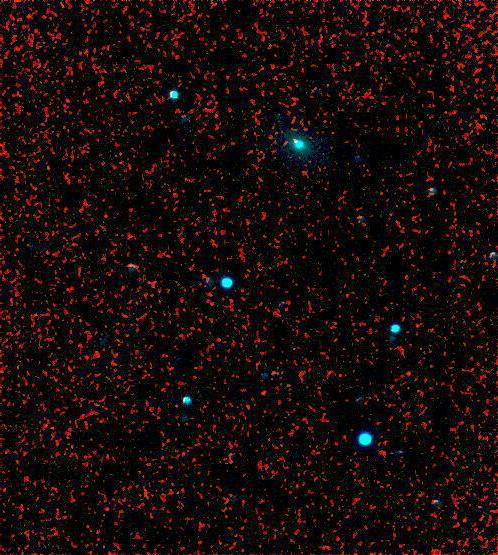star: (246, 376, 276, 406)
